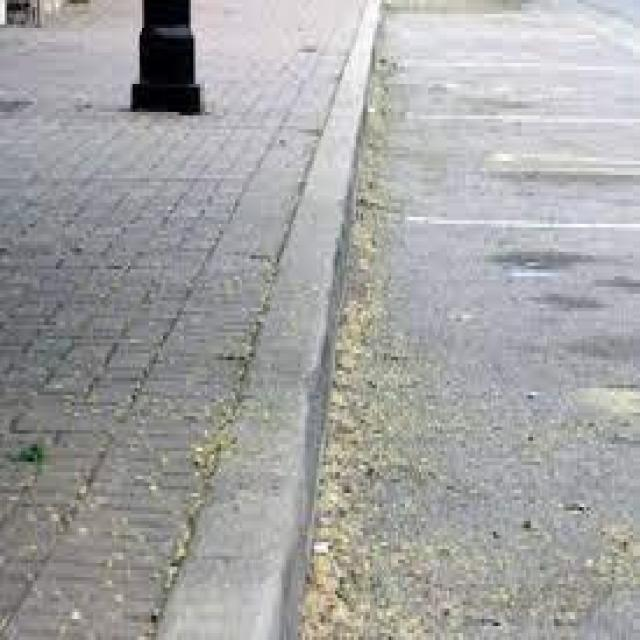curb: (150, 24, 378, 640)
